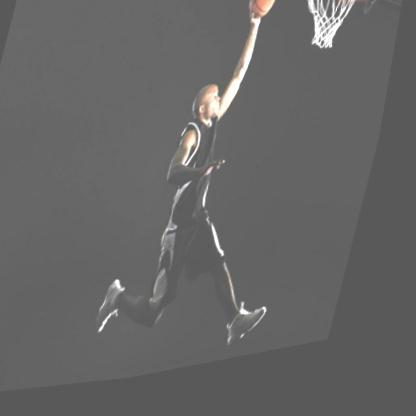basketball: (247, 0, 283, 31)
rim: (294, 0, 367, 69)
